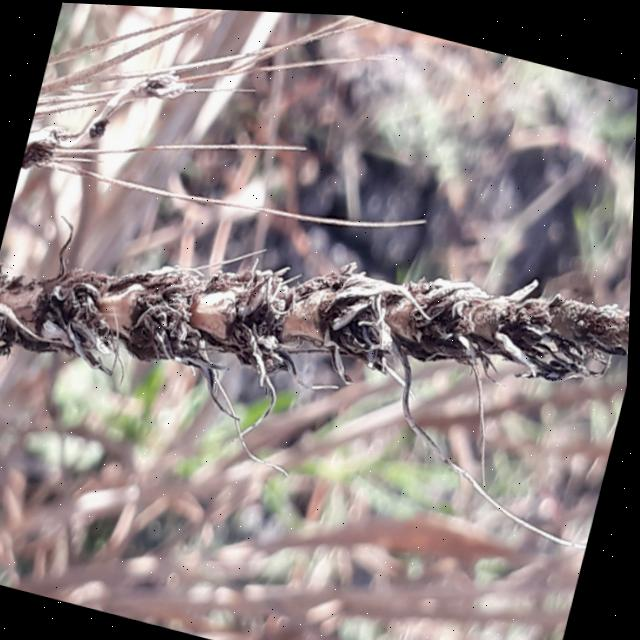loose_charred: (0, 116, 637, 545), (17, 15, 227, 223)
